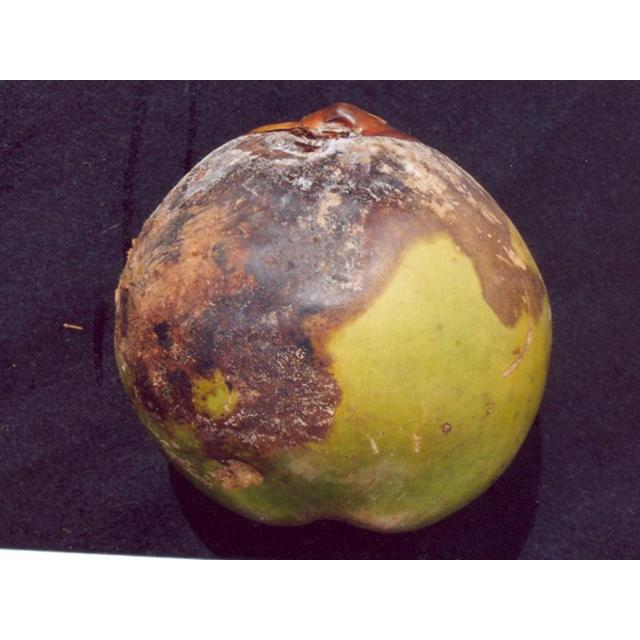damaged: (112, 103, 554, 537)
